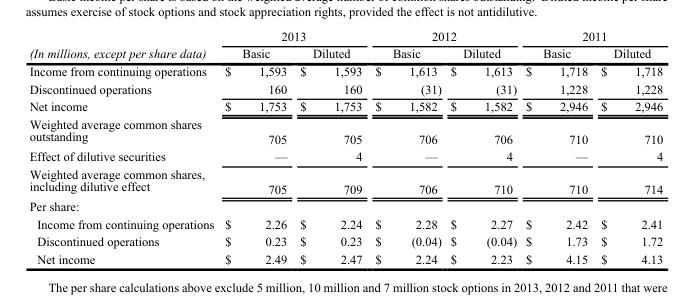table: (28, 28, 662, 265)
table column: (28, 28, 218, 265), (368, 28, 445, 265), (292, 28, 368, 265), (445, 28, 520, 265), (218, 28, 292, 265), (520, 28, 593, 265), (593, 28, 662, 265)
table column header: (28, 28, 662, 62)
table projected row header: (28, 197, 662, 214)
table row: (28, 114, 662, 147), (28, 164, 662, 197), (28, 44, 662, 62), (28, 79, 662, 97), (28, 214, 662, 232), (28, 232, 662, 250), (28, 62, 662, 79), (28, 97, 662, 114), (28, 147, 662, 164), (28, 197, 662, 214), (28, 28, 662, 44), (28, 250, 662, 265)
table spanning cell: (28, 28, 218, 62), (368, 28, 520, 44), (218, 28, 368, 44), (520, 28, 662, 44)
